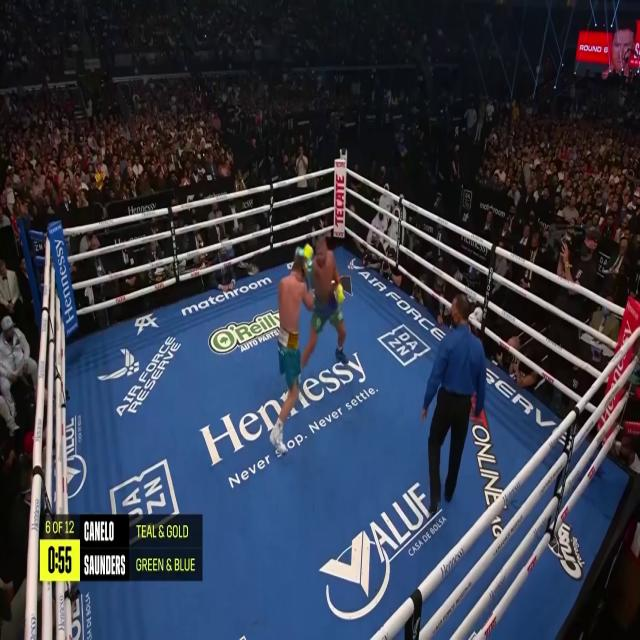boxer_2: (278, 258, 304, 333)
gloves_1: (336, 278, 344, 303), (304, 246, 312, 260)
gloves_2: (304, 260, 313, 289), (295, 247, 304, 261)
